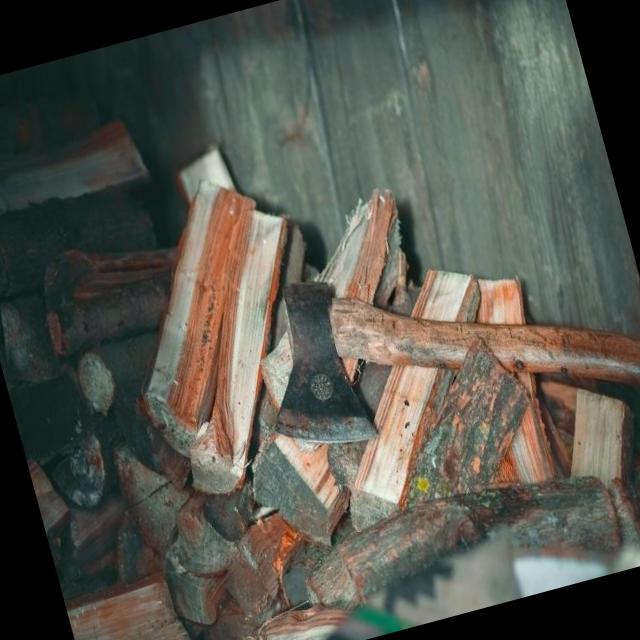Axe: (277, 282, 640, 442)
